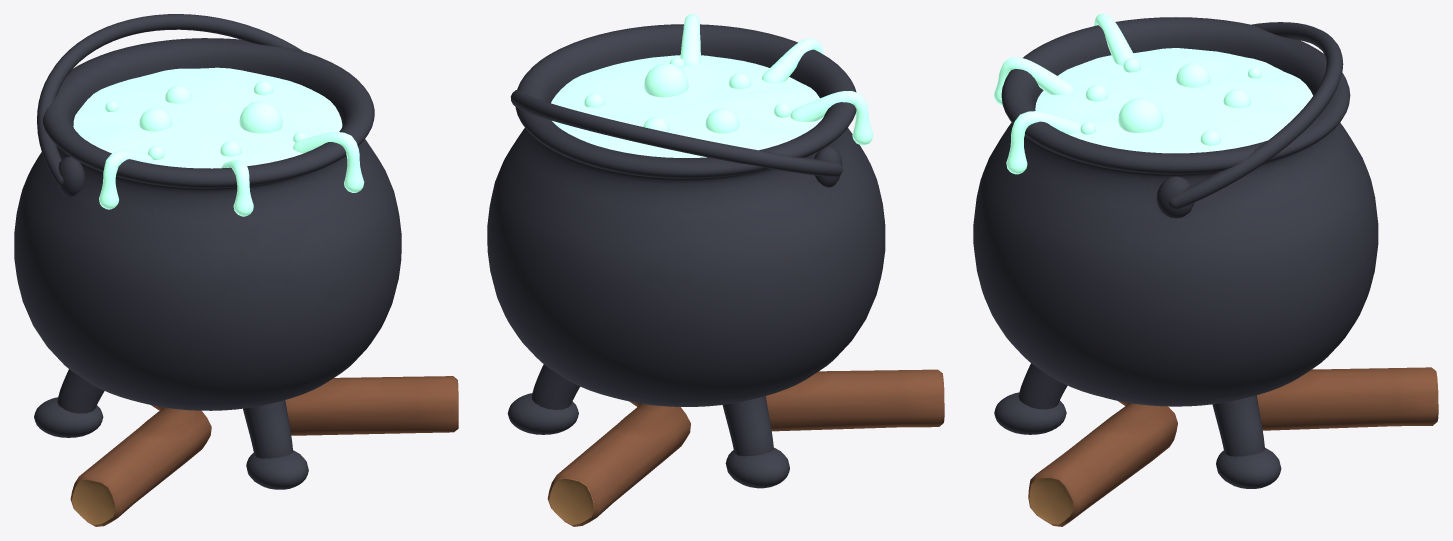
Rendered from cauldron.glb.
3 renders of one model, left to right at view 1: azimuth 30°, elevation 25°; view 2: azimuth 150°, elevation 25°; view 3: azimuth 270°, elevation 25°, orthographic. The views are drawn at different scales.
Visible parts, largest first — view 1: cauldron_body, cauldron_potion; view 2: cauldron_body, cauldron_potion; view 3: cauldron_body, cauldron_potion.
Boxes of the visible parts, x1,y1,x2,y2 form: cauldron_body: (14, 14, 458, 526); cauldron_potion: (73, 67, 364, 216); cauldron_body: (487, 24, 944, 526); cauldron_potion: (551, 14, 873, 157); cauldron_body: (973, 17, 1438, 526); cauldron_potion: (994, 14, 1312, 174).
Size of the model in its own units: 0.5431 by 0.4721 by 0.5308.
2 materials, 1 textured.
